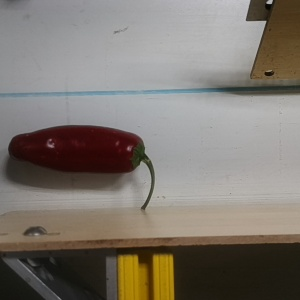Cut Point: (120, 130, 146, 173)
